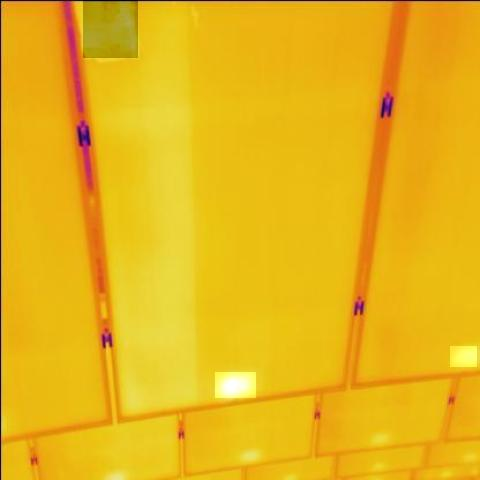fault: (83, 0, 138, 58), (215, 372, 256, 398), (450, 346, 477, 367)
